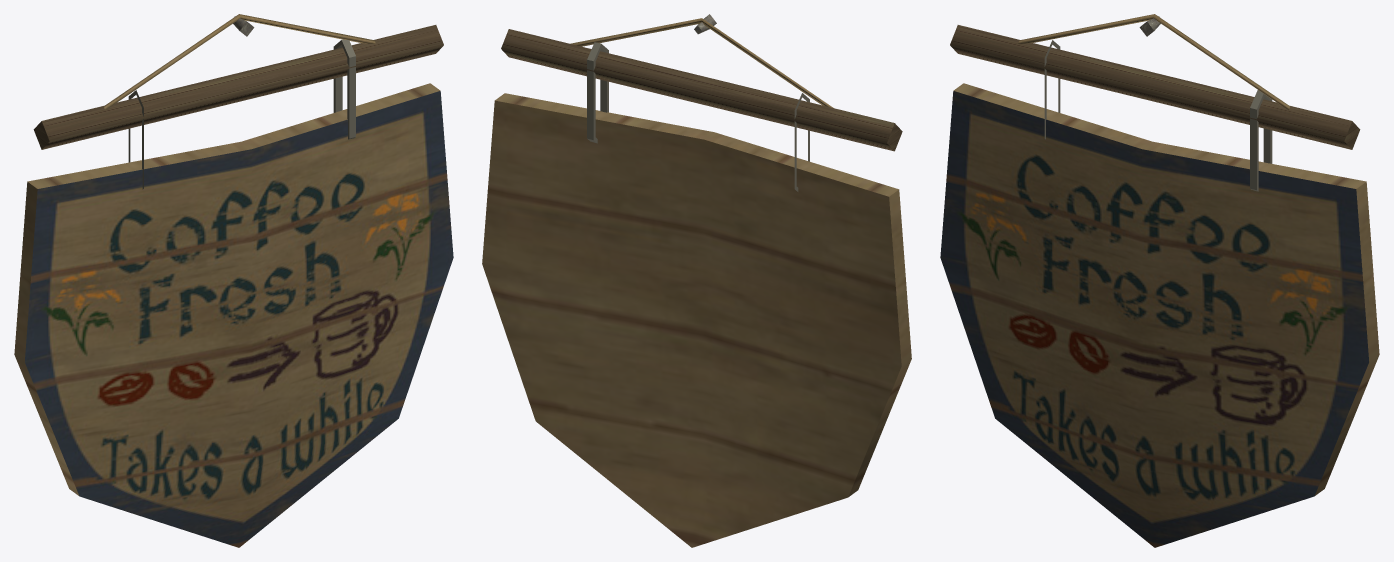
Rendered from plaque.glb.
3 views of the same model, side by side, from view 1: azimuth 30°, elevation 25°; view 2: azimuth 150°, elevation 25°; view 3: azimuth 330°, elevation 25° (orthographic). The views are drawn at different scales.
Parts seen in each view (by area): view 1: plaque; view 2: plaque; view 3: plaque.
Part boxes in pixels (left/top/right/bottom): plaque: left=14, top=14, right=453, bottom=547; plaque: left=482, top=14, right=911, bottom=547; plaque: left=940, top=14, right=1379, bottom=547.
Bounding box in the file's own units: 0.6266 × 0.7456 × 0.0583.
5 materials, 5 textured.
